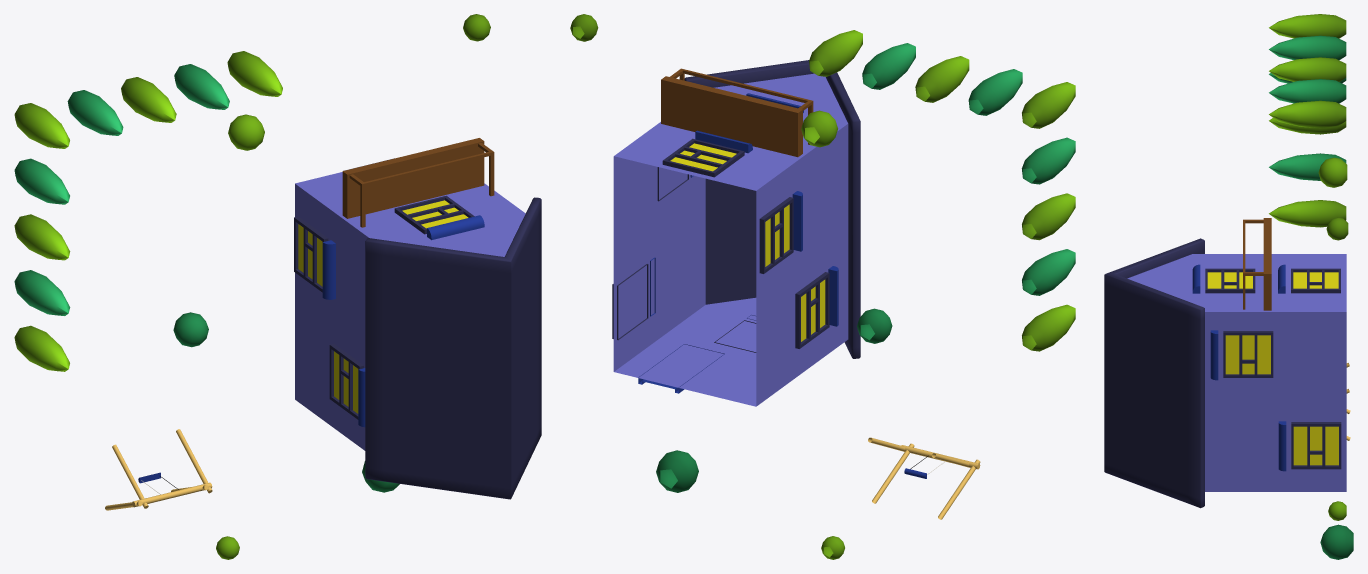
File: Simple_House_03_03.fbx
3 views of the same model, side by side, from view 1: azimuth 30°, elevation 25°; view 2: azimuth 150°, elevation 25°; view 3: azimuth 270°, elevation 25° (orthographic). The views are drawn at different scales.
Visible parts, largest first — view 1: Simple_House_03_03; view 2: Simple_House_03_03; view 3: Simple_House_03_03.
Part boxes in pixels (x1,y1,x2,y2): Simple_House_03_03: [14, 14, 541, 559]; Simple_House_03_03: [570, 14, 1075, 559]; Simple_House_03_03: [1104, 14, 1353, 559].
Size of the model in its own units: 179 by 182 by 97.21.
